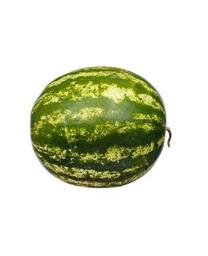watermelon: (28, 65, 166, 189)
